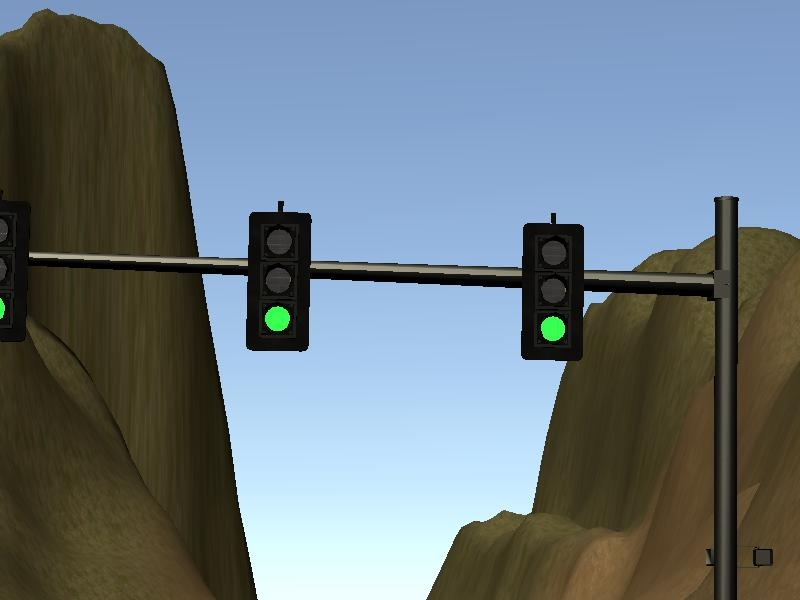traffic_light_green: (1, 198, 698, 361)
